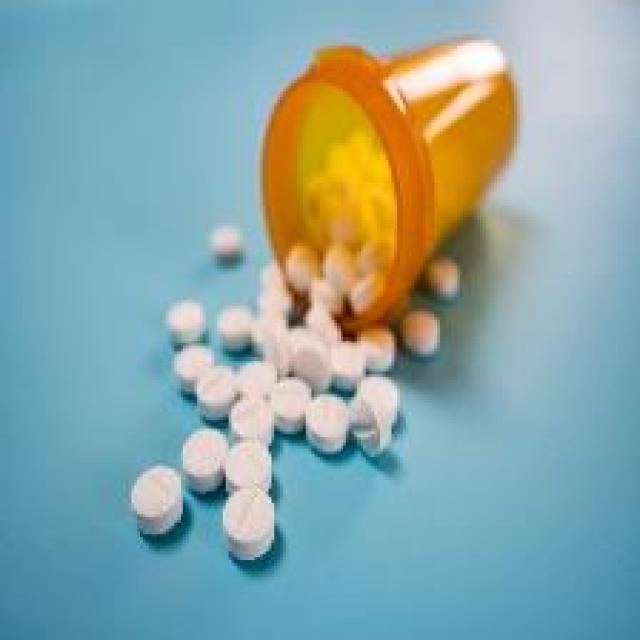Medicine: (78, 30, 592, 595)
